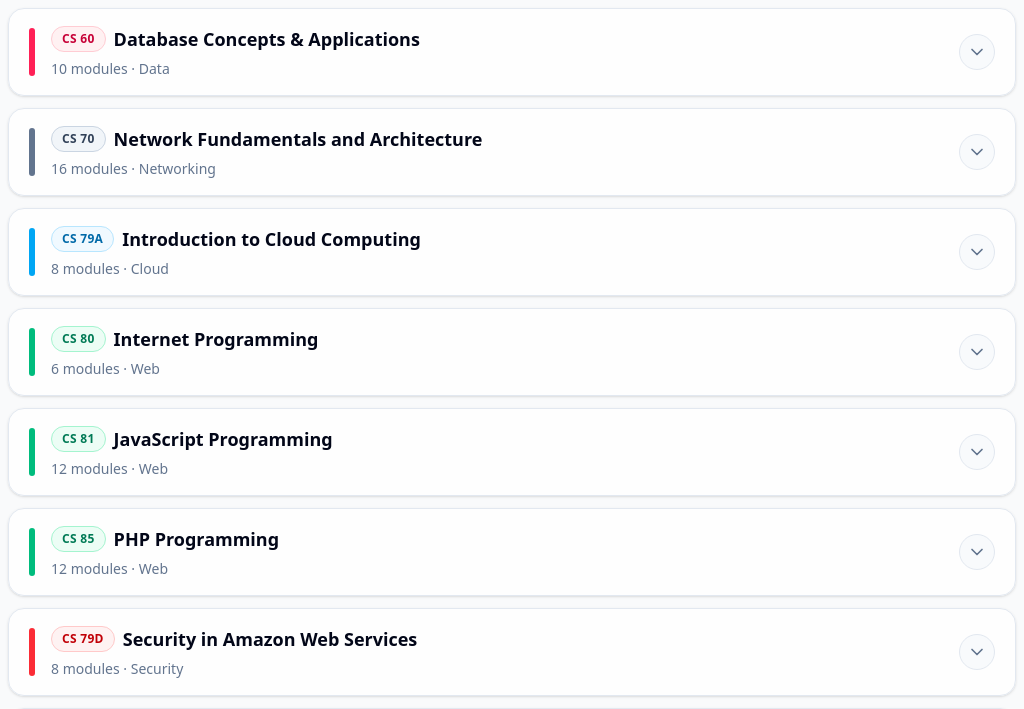
Test: <HomePage /> › shows the verified technology stack for CS 80 - Internet Programming
The width and height of the screenshot is (1024, 709).
(page scrolled)
Click the button with aria-label "CS 80 - Internet Programming". click: (78,339)
box: x1=9 y1=308 x2=1015 y2=394
(page scrolled)
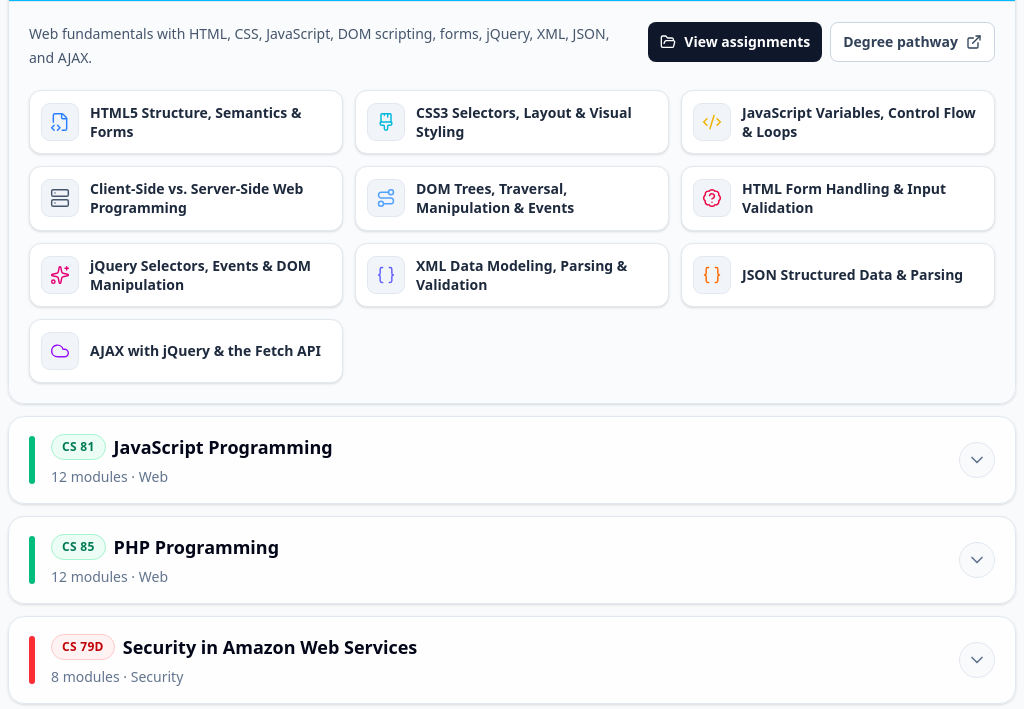
Now the text "HTML5 Structure, Semantics & Forms" is shown, box x1=90 y1=102 x2=330 y2=141
Now the text "CSS3 Selectors, Layout & Visual Styling" is shown, box x1=416 y1=102 x2=656 y2=141
Now the text "JavaScript Variables, Control Flow & Loops" is shown, box x1=742 y1=102 x2=982 y2=141
